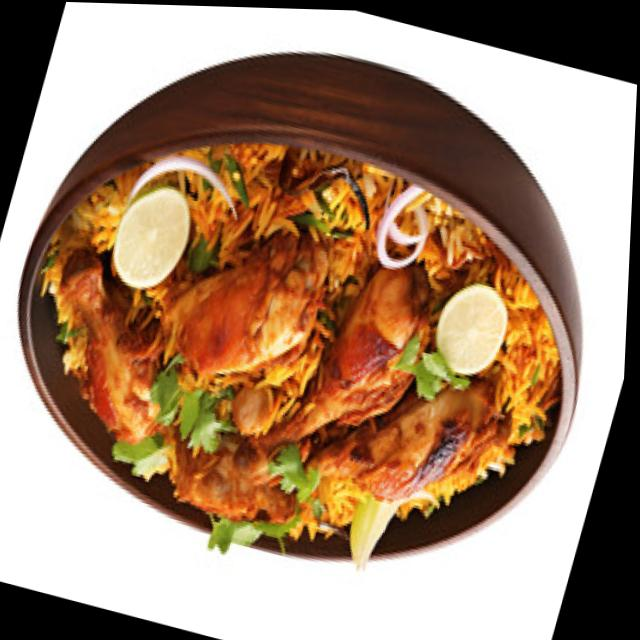BIRIYANI: (38, 144, 562, 566)
